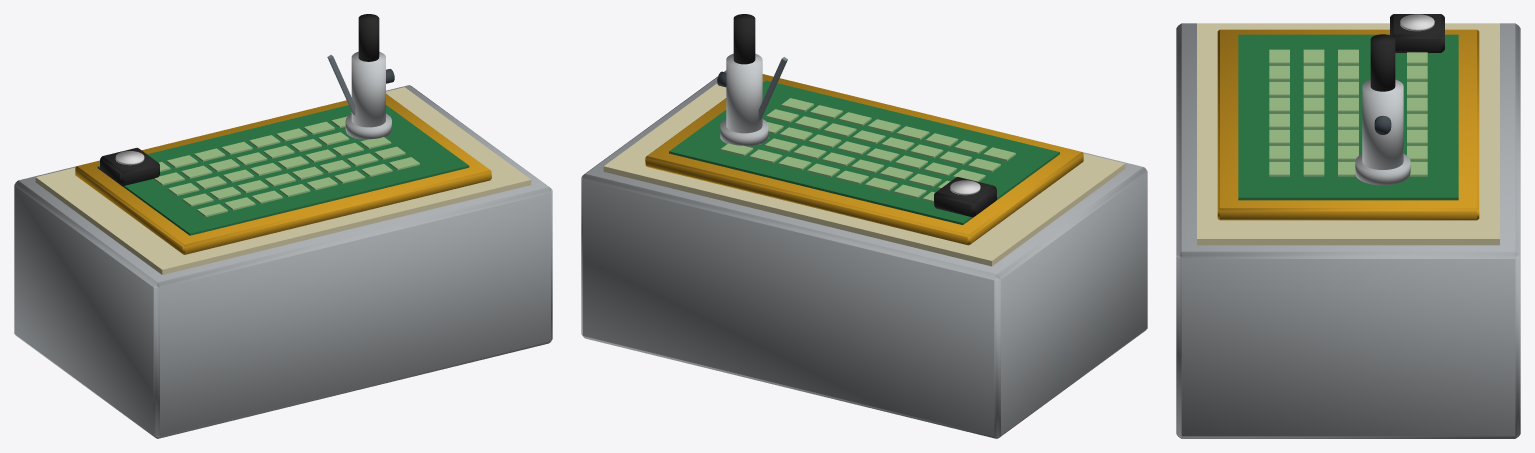
Rendered from m_screenmesh.glb.
3 views of the same model, side by side, from view 1: azimuth 30°, elevation 25°; view 2: azimuth 150°, elevation 25°; view 3: azimuth 270°, elevation 25° (orthographic). The views are drawn at different scales.
Visible parts, largest first — view 1: m_screenmesh; view 2: m_screenmesh; view 3: m_screenmesh.
Boxes of the visible parts, left/top/right/bottom form: m_screenmesh: left=14, top=14, right=552, bottom=438; m_screenmesh: left=581, top=14, right=1147, bottom=438; m_screenmesh: left=1176, top=14, right=1520, bottom=438.
Bounding box in the file's own units: 0.8 × 0.55 × 0.5.
